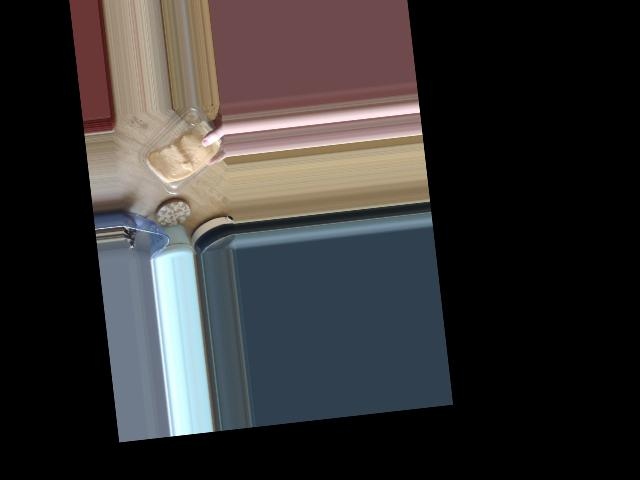cheese: (124, 106, 224, 206)
